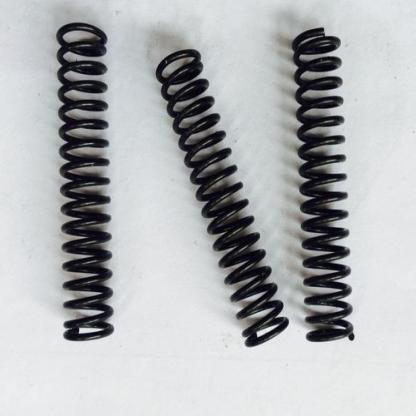FOD: (153, 44, 291, 350), (54, 19, 118, 345), (293, 24, 356, 349)
